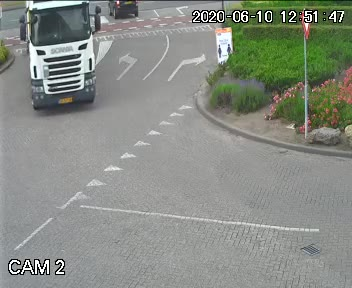car: (15, 0, 105, 120), (104, 0, 144, 22)
